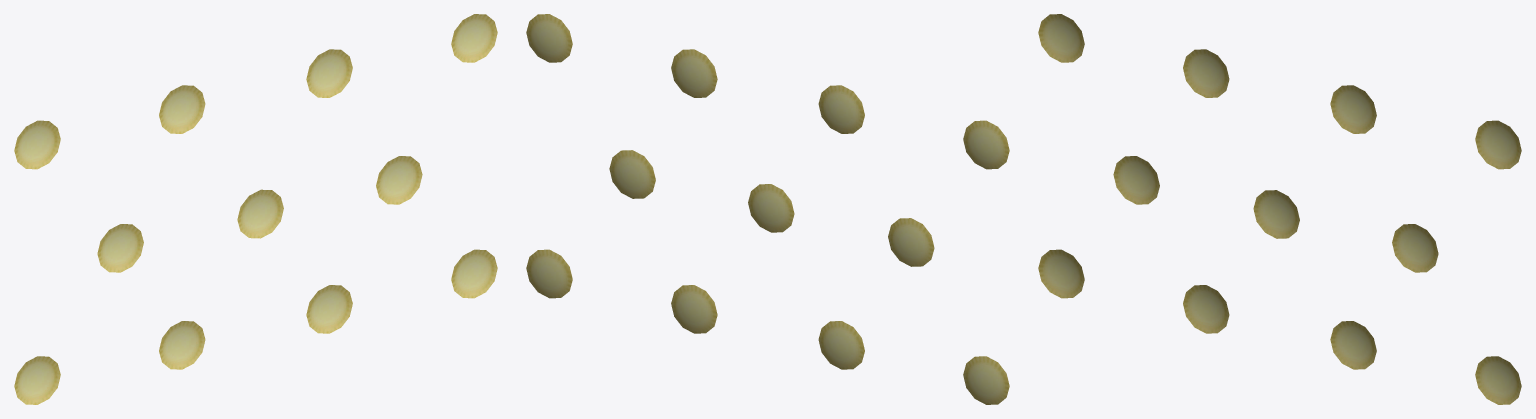
File: corellian_corvette_engine_on_l0.fbx
3 renders of one model, left to right at view 1: azimuth 30°, elevation 25°; view 2: azimuth 150°, elevation 25°; view 3: azimuth 330°, elevation 25°, orthographic.
Visible parts, largest first — view 1: mesh_node; view 2: mesh_node; view 3: mesh_node.
Boxes of the visible parts, x1,y1,x2,y2 form: mesh_node: (14, 14, 497, 404); mesh_node: (526, 14, 1009, 404); mesh_node: (1038, 14, 1521, 404).
Bounding box in the file's own units: 70.11 × 39.41 × 1.83.
